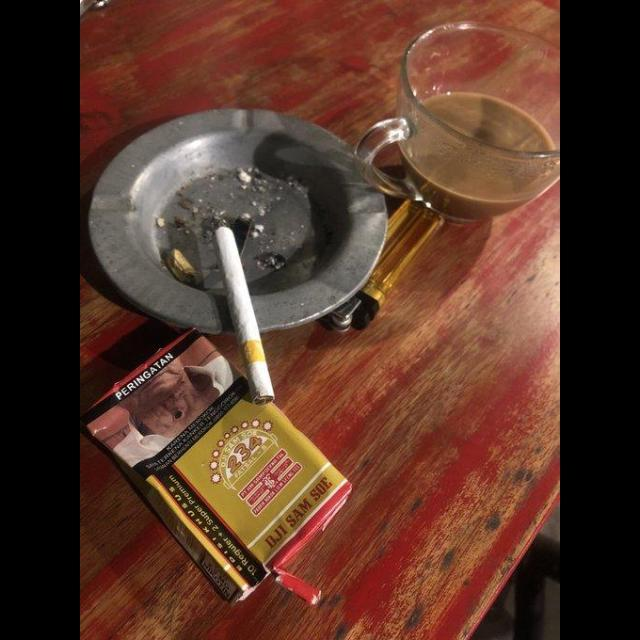rokok: (218, 220, 278, 404)
